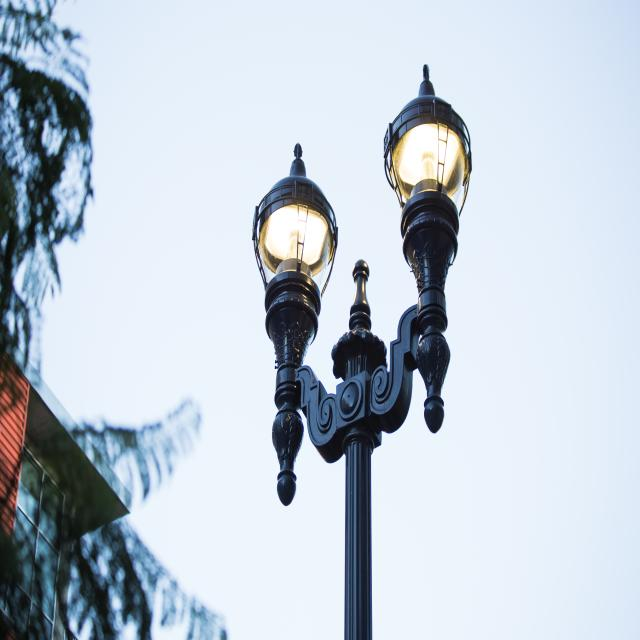Street Light: (254, 65, 472, 640)
